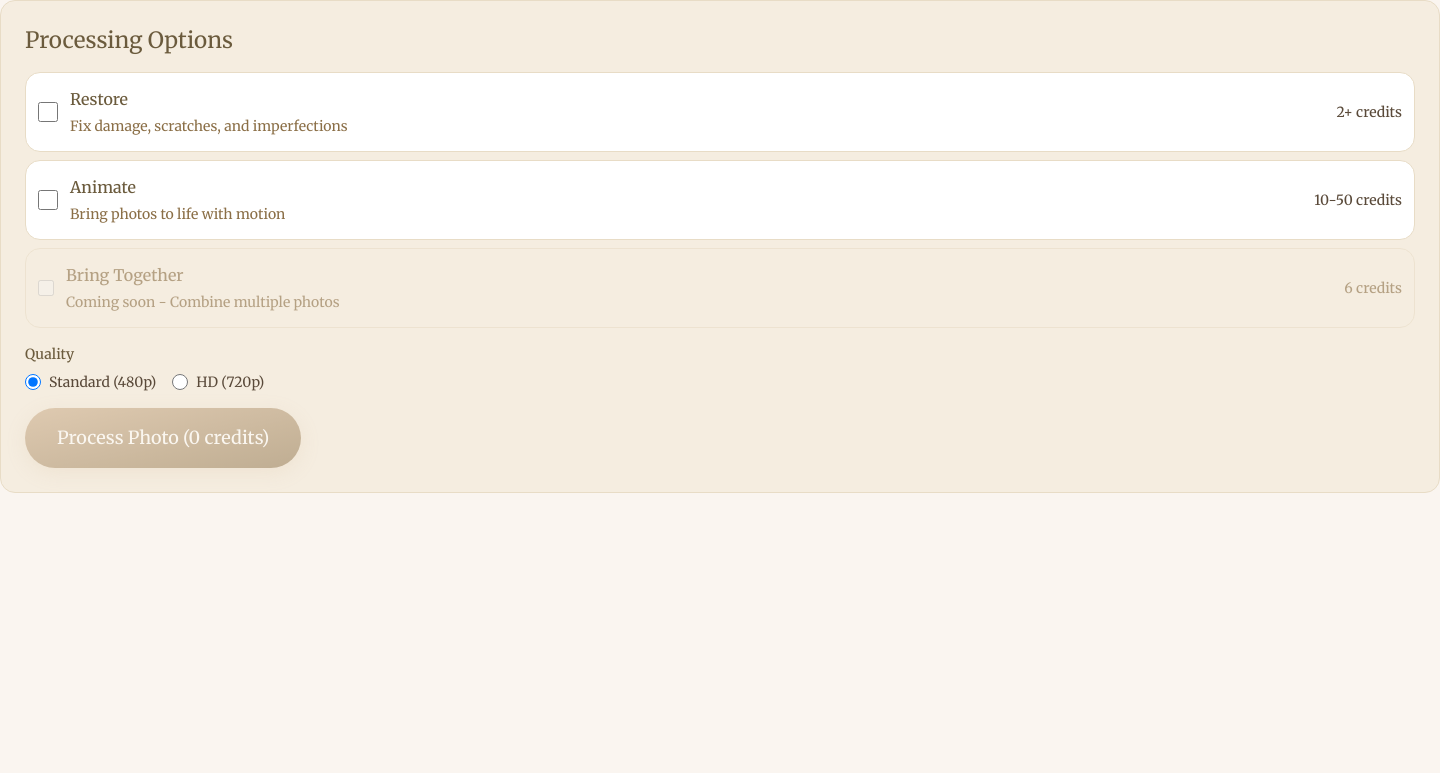
Test case: ProcessingOptionsPanel › Credit Calculation › should show remaining credits after processing
Step 1. Click the checkbox labelled "Restore Fix damage, scratches, and imperfections 2+ credits" → (48, 112), box top-left (38, 102), bottom-right (58, 122)
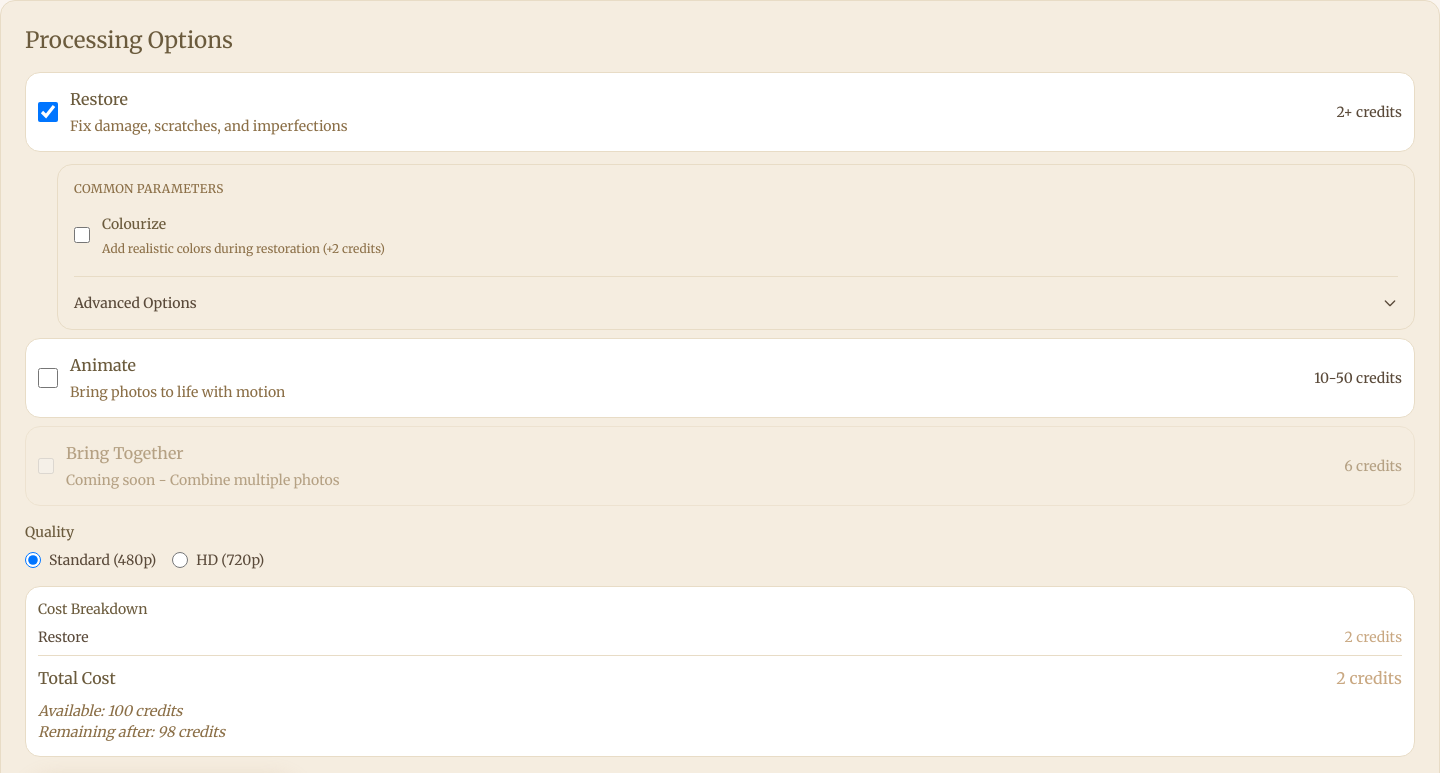
Expected: the text "Available: 100 credits" is shown, top-left (38, 702), bottom-right (182, 720)
Expected: the text "Remaining after: 98 credits" is shown, top-left (38, 723), bottom-right (225, 741)
